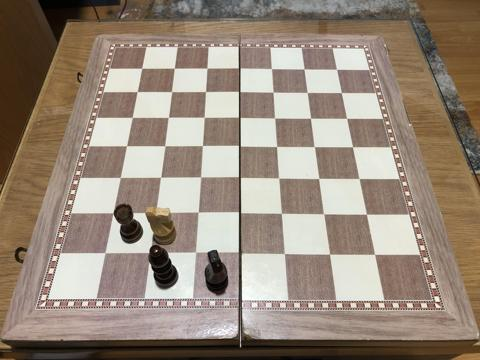xcorner: (234, 62, 247, 74), (137, 61, 149, 74), (200, 85, 212, 98), (198, 111, 211, 123), (319, 208, 331, 221), (234, 248, 246, 261), (332, 63, 344, 75), (299, 63, 311, 75), (267, 63, 279, 75), (202, 62, 214, 74), (170, 62, 182, 74), (336, 87, 348, 99), (302, 86, 314, 98), (268, 86, 280, 98), (234, 86, 246, 98), (166, 85, 178, 97), (132, 85, 144, 97), (342, 112, 354, 124), (306, 112, 318, 124), (270, 112, 282, 124), (234, 112, 246, 124), (163, 111, 175, 123), (127, 111, 139, 123), (347, 141, 359, 153), (310, 141, 322, 153), (272, 140, 284, 152), (234, 140, 246, 152), (196, 140, 208, 152), (159, 140, 171, 152), (121, 139, 133, 151), (354, 173, 366, 185), (314, 173, 326, 185), (274, 172, 286, 184), (234, 172, 246, 184), (194, 172, 206, 184), (154, 172, 166, 184), (114, 171, 126, 183), (361, 209, 373, 221), (276, 208, 288, 220), (234, 208, 246, 220), (192, 208, 204, 220), (149, 207, 161, 219), (107, 207, 119, 219), (369, 249, 381, 261), (324, 249, 336, 261), (279, 249, 291, 261), (189, 248, 201, 260), (143, 248, 155, 260), (98, 248, 110, 260)
